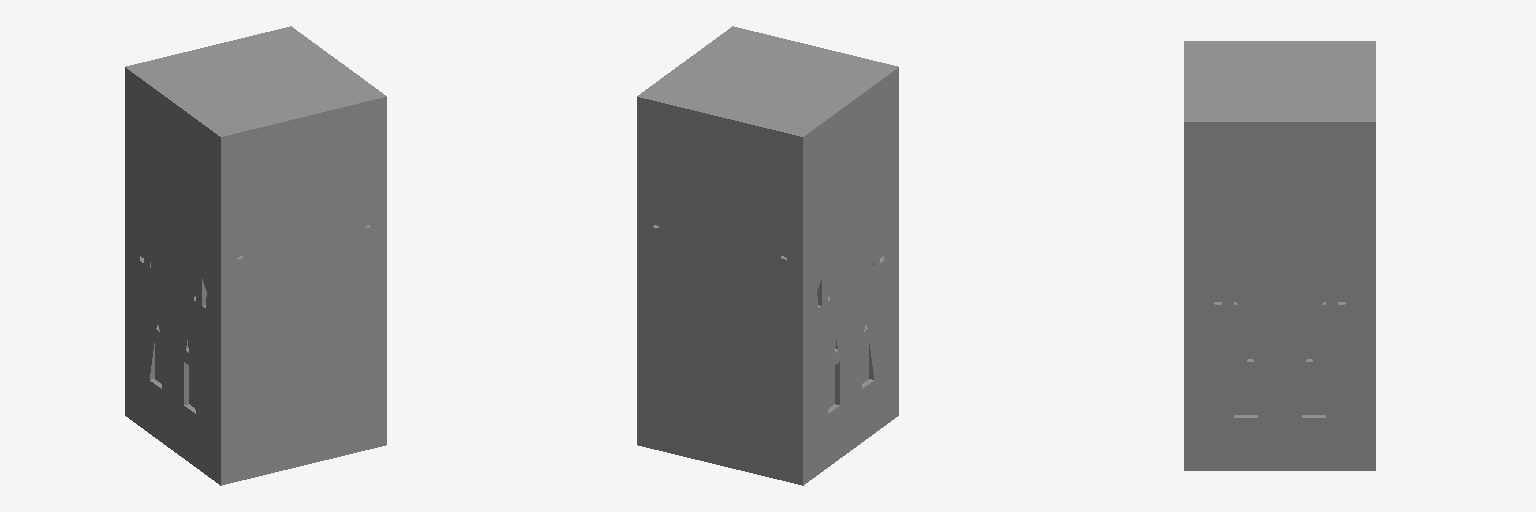
The model's file is Haus.obj.
The picture shows the model from 3 angles: view 1: azimuth 30°, elevation 25°; view 2: azimuth 150°, elevation 25°; view 3: azimuth 270°, elevation 25°; orthographic projection.
Visible parts, largest first — view 1: Cube; view 2: Cube; view 3: Cube.
Boxes of the visible parts, box(x1,y1,x2,y2) form: Cube: box(125, 26, 386, 485); Cube: box(637, 26, 898, 485); Cube: box(1184, 41, 1375, 470).
Size of the model in its own units: 4 by 8 by 4.